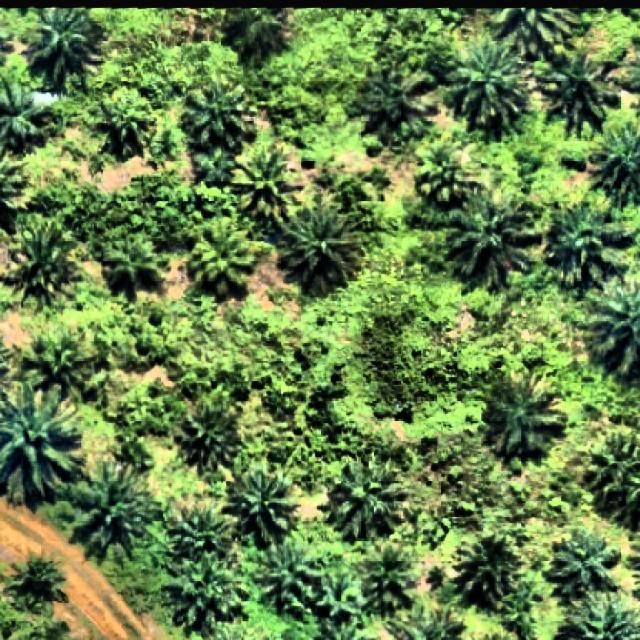Kelapa_Sawit: (446, 192, 540, 292), (66, 460, 152, 565), (542, 194, 633, 292), (280, 200, 366, 297), (445, 40, 530, 136), (482, 369, 568, 463), (323, 450, 408, 544), (538, 49, 620, 140), (159, 556, 250, 633), (6, 219, 77, 312), (357, 58, 435, 142), (226, 464, 302, 547), (230, 142, 298, 232), (544, 528, 621, 606), (184, 73, 256, 155), (188, 216, 258, 299), (451, 533, 524, 610), (176, 398, 242, 480), (413, 132, 478, 211), (94, 85, 157, 161), (253, 536, 319, 604), (167, 502, 236, 560), (8, 546, 70, 609), (361, 536, 417, 604), (102, 231, 158, 294), (314, 570, 360, 618)
